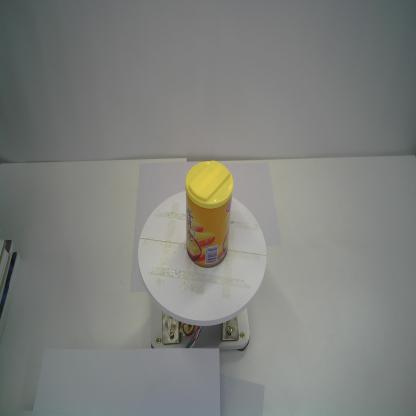Canned Food: (184, 158, 234, 270)
